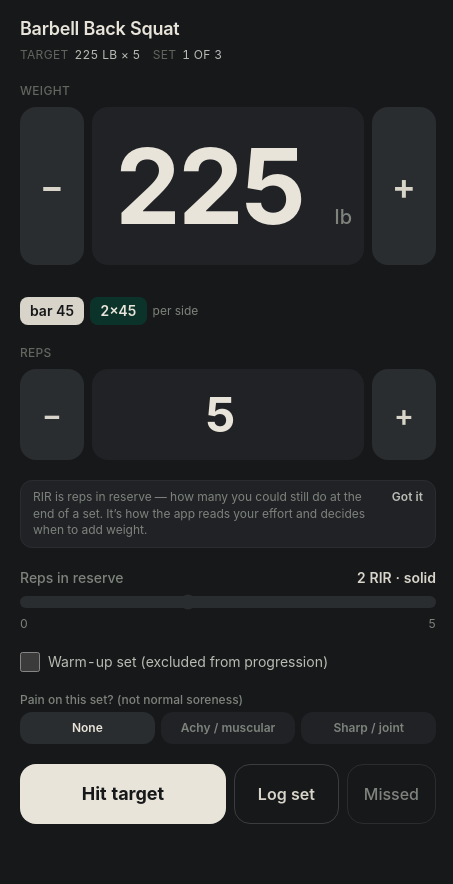
Test: LogSet screen › flags a set that beats the prior best e1RM as a PR (banner + badge)
What coordinates should you click on to do the following:
click the button "Hit target"
I would click on:
 (123, 794)
Its box is [20, 764, 226, 824].
(page scrolled)
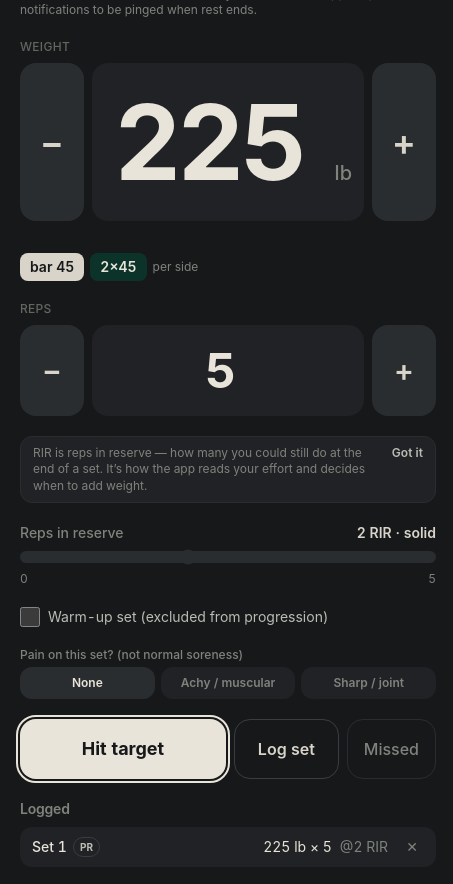
Result: the text "PR" is shown at [73, 837, 100, 857]
